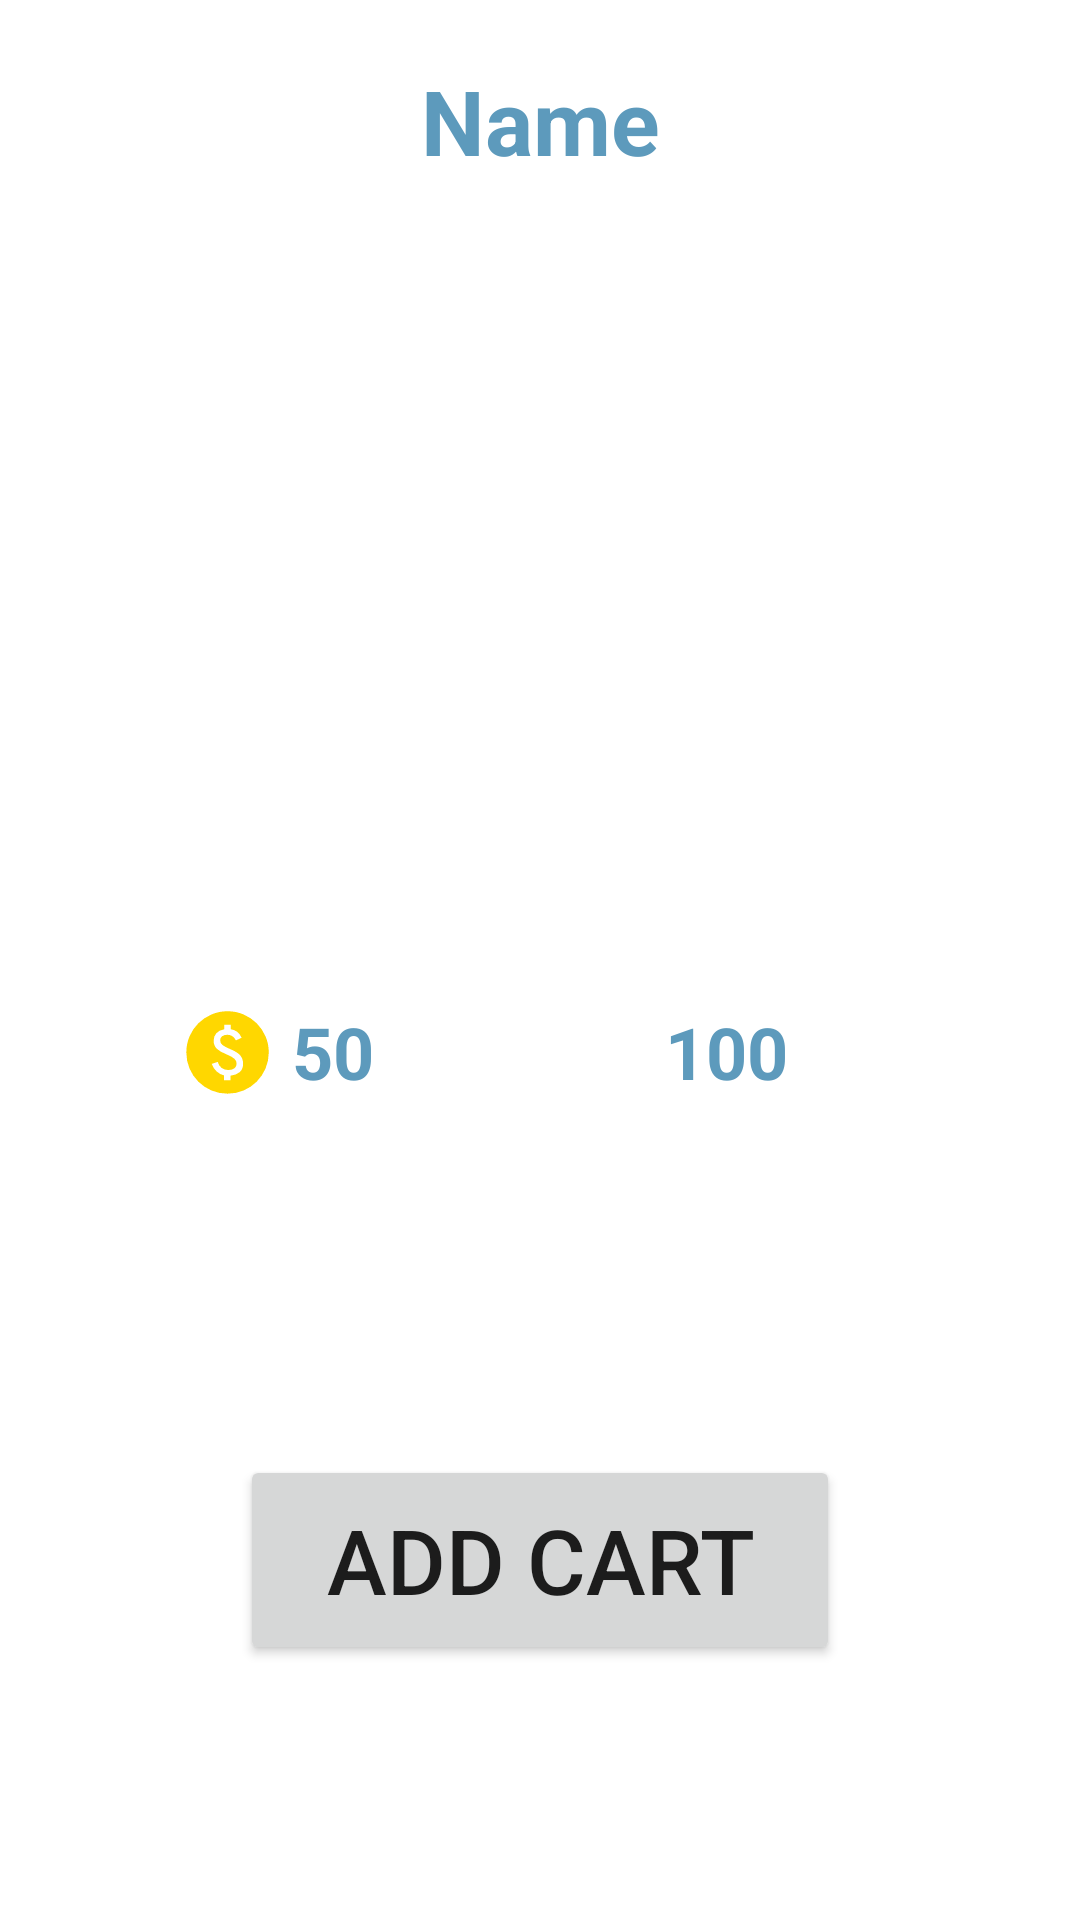

Icon bounding boxes for this 1080 × 1920 phone screenshot, format rect(x1, y1, x2, y2):
monetization on: rect(186, 1011, 269, 1094)
